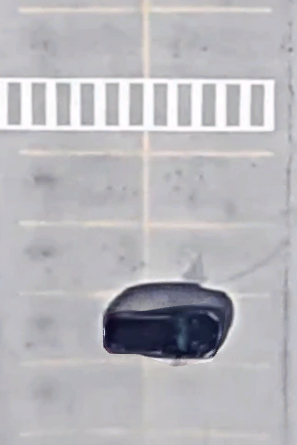Occupied: (20, 292, 146, 363), (146, 293, 270, 363)
Vacant: (19, 363, 148, 436), (145, 152, 271, 225), (145, 10, 272, 82), (146, 363, 269, 437), (20, 152, 146, 223), (19, 10, 146, 79), (21, 223, 145, 293), (146, 224, 270, 294)
